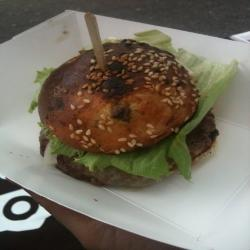burger: (38, 27, 230, 199)
salad: (142, 34, 246, 118)
